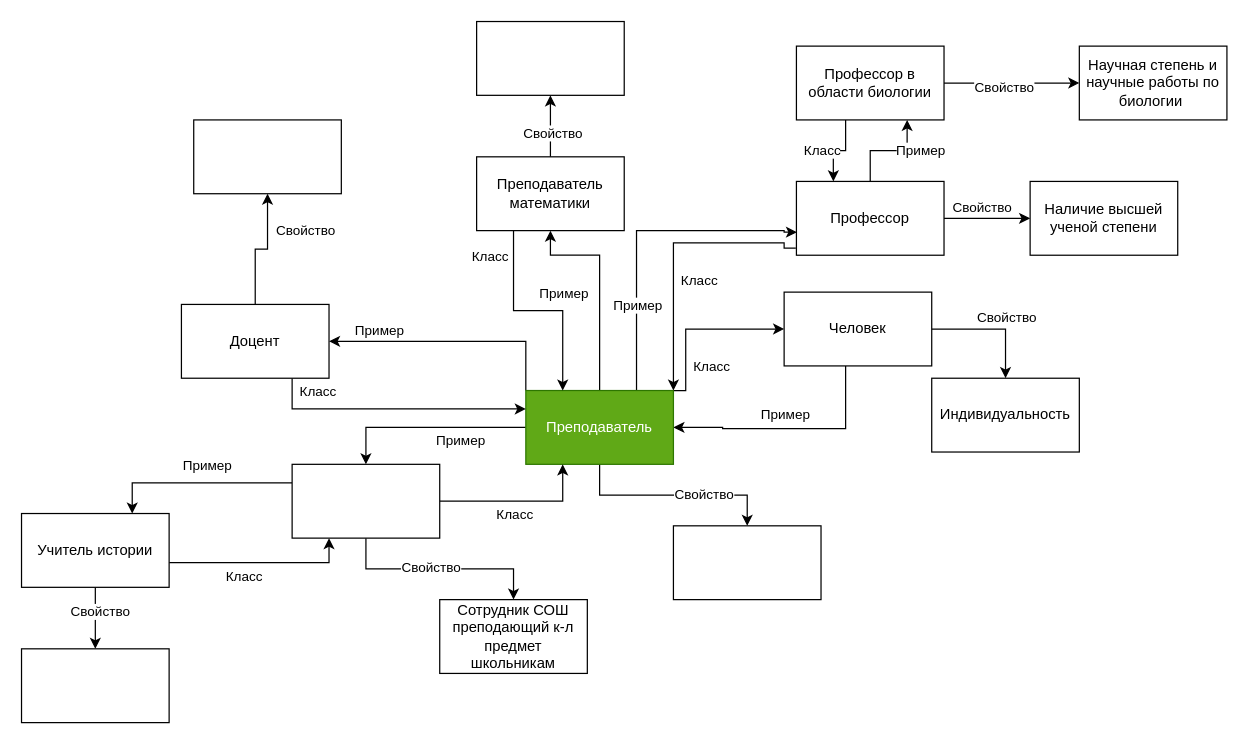
Image size: 1248x744. Some labels were removed from this diagram. The centre of each missing label's shape, as x and y in pixels:
Обучает людей: point (746, 562)
Преподает историю в школе: point (94, 685)
Преподает математику в ВУЗе/Техникуме: point (549, 57)
Стаж > 5 лет + степень кандидата: point (266, 156)
Учитель: point (365, 500)
